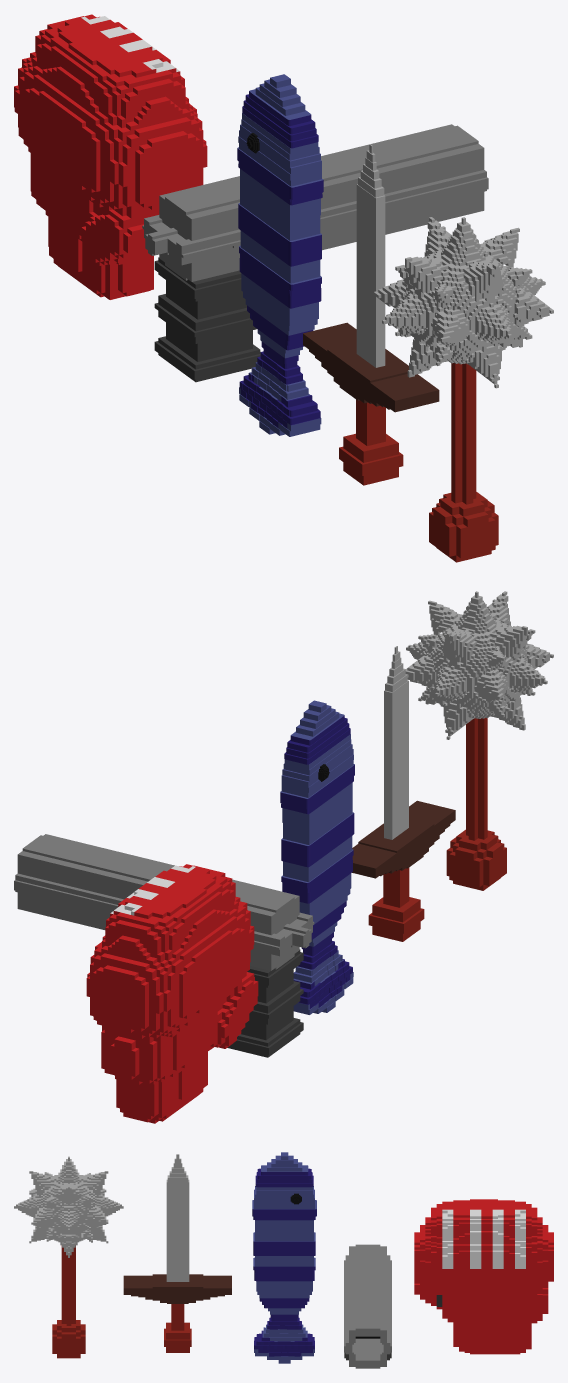
Rendered from Weapons.fbx.
The picture shows the model from 3 angles, top to bottom: view 1: azimuth 30°, elevation 25°; view 2: azimuth 150°, elevation 25°; view 3: azimuth 270°, elevation 25°; orthographic projection. The views are drawn at different scales.
Visible parts, largest first — view 1: Cube.010, Cube.005, Cube.007, Cube, Cube.008, Cube.001, Cube.003, Cube.002, Cube.004; view 2: Cube.010, Cube.005, Cube.007, Cube, Cube.001, Cube.008, Cube.002, Cube.003, Cube.004; view 3: Cube.010, Cube.005, Cube, Cube.007, Cube.002, Cube.003, Cube.001, Cube.004.
Boxes of the visible parts, x1,y1,x2,y2 form: Cube.010: [14, 14, 207, 299]; Cube.005: [237, 74, 323, 436]; Cube.007: [142, 124, 488, 281]; Cube: [373, 217, 553, 388]; Cube.008: [154, 257, 260, 382]; Cube.001: [429, 363, 498, 562]; Cube.003: [303, 322, 439, 412]; Cube.002: [356, 144, 385, 367]; Cube.004: [339, 399, 403, 485]; Cube.010: [86, 864, 258, 1123]; Cube.005: [280, 700, 354, 1014]; Cube.007: [14, 834, 314, 970]; Cube: [405, 591, 553, 739]; Cube.001: [446, 718, 506, 890]; Cube.008: [227, 949, 303, 1057]; Cube.002: [384, 646, 408, 839]; Cube.003: [352, 800, 455, 878]; Cube.004: [368, 868, 424, 941]; Cube.010: [414, 1199, 553, 1354]; Cube.005: [252, 1152, 316, 1363]; Cube: [14, 1156, 123, 1257]; Cube.007: [344, 1244, 391, 1368]; Cube.002: [166, 1154, 189, 1281]; Cube.003: [123, 1274, 231, 1303]; Cube.001: [52, 1245, 85, 1358]; Cube.004: [164, 1304, 191, 1352].
Bounding box in the file's own units: 747 × 733 × 1749.
